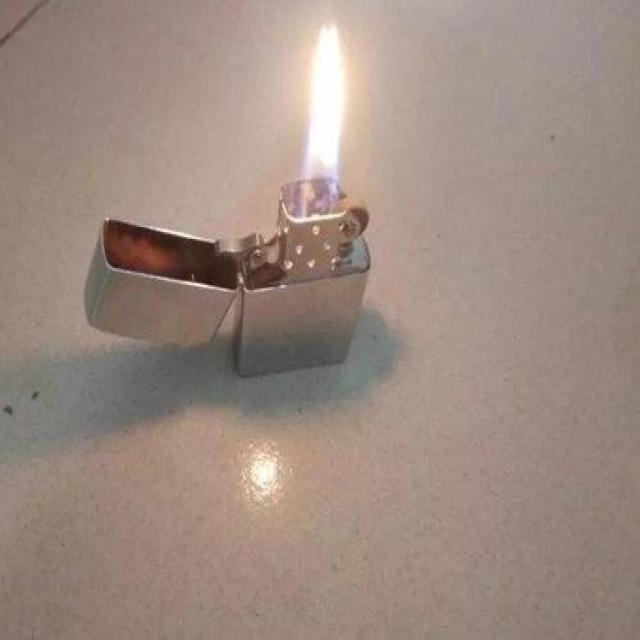Fire: (298, 21, 347, 216)
